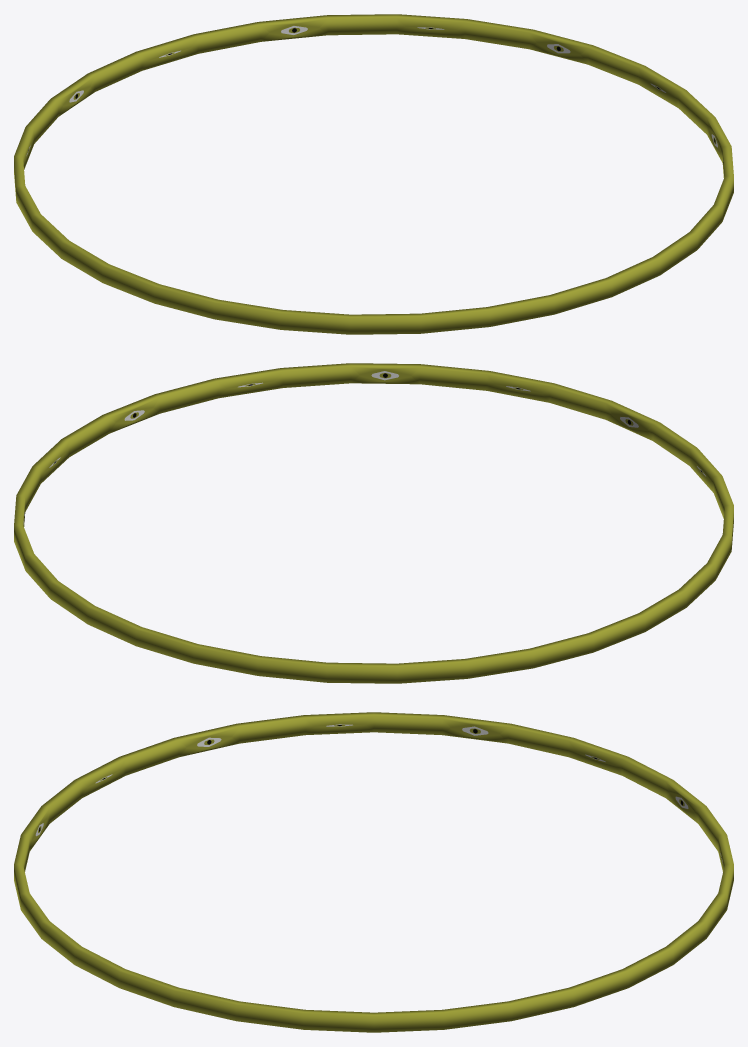
File: BiblicallyAccurateMurder.glb
3 renders of one model, top to bottom at view 1: azimuth 30°, elevation 25°; view 2: azimuth 150°, elevation 25°; view 3: azimuth 270°, elevation 25°, orthographic.
Parts seen in each view (by area): view 1: Cylinder; view 2: Cylinder; view 3: Cylinder.
Boxes of the visible parts, bbox=[...] form: Cylinder: bbox=[14, 14, 733, 334]; Cylinder: bbox=[14, 363, 733, 683]; Cylinder: bbox=[14, 712, 733, 1032].
Size of the model in its own units: 80 by 2 by 80.
